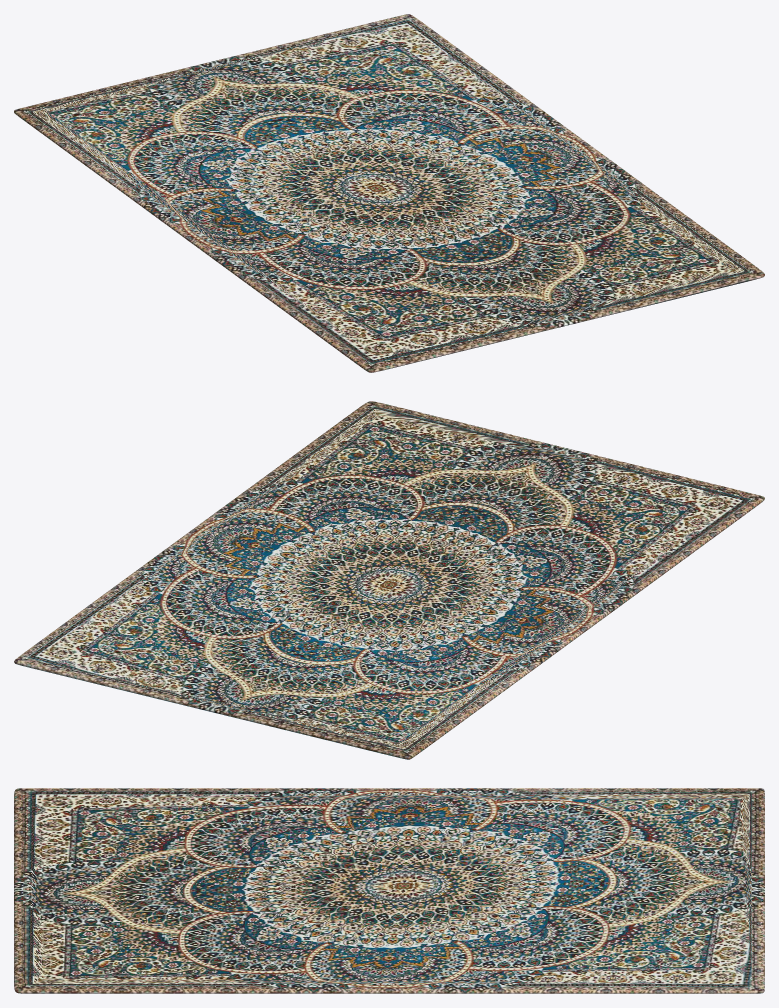
The model's file is Traditional old rug.fbx.
The picture shows the model from 3 angles, top to bottom: view 1: azimuth 30°, elevation 25°; view 2: azimuth 150°, elevation 25°; view 3: azimuth 270°, elevation 25°; orthographic projection. The views are drawn at different scales.
Parts seen in each view (by area): view 1: Traditional old rug; view 2: Traditional old rug; view 3: Traditional old rug.
Part boxes in pixels (x1,y1,x2,y2): Traditional old rug: (14,14,764,372); Traditional old rug: (14,401,764,759); Traditional old rug: (14,788,764,993).
Size of the model in its own units: 180 by 1.5 by 280.
1 material, 1 textured.
